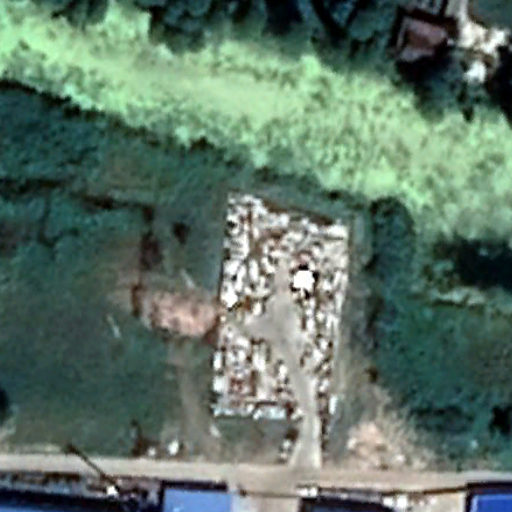msw: (209, 197, 355, 423)
